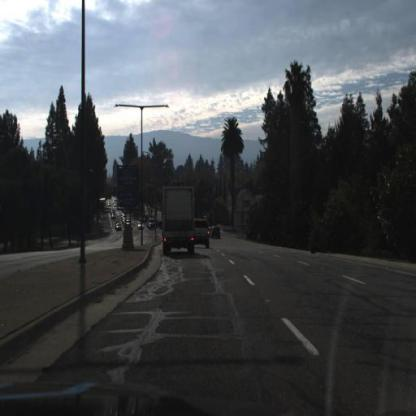car: (195, 217, 211, 251), (210, 223, 223, 243), (148, 217, 160, 232), (136, 222, 144, 234)
truck: (163, 184, 198, 259), (148, 217, 157, 231)
